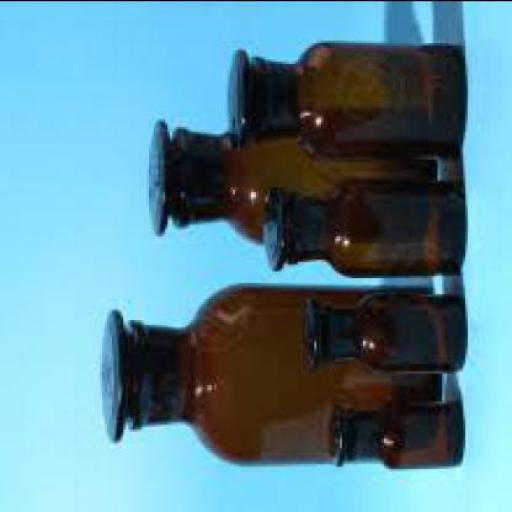glass: (100, 282, 438, 464), (147, 116, 435, 242), (226, 40, 463, 153), (261, 174, 463, 273), (303, 291, 460, 370), (328, 398, 463, 466)
